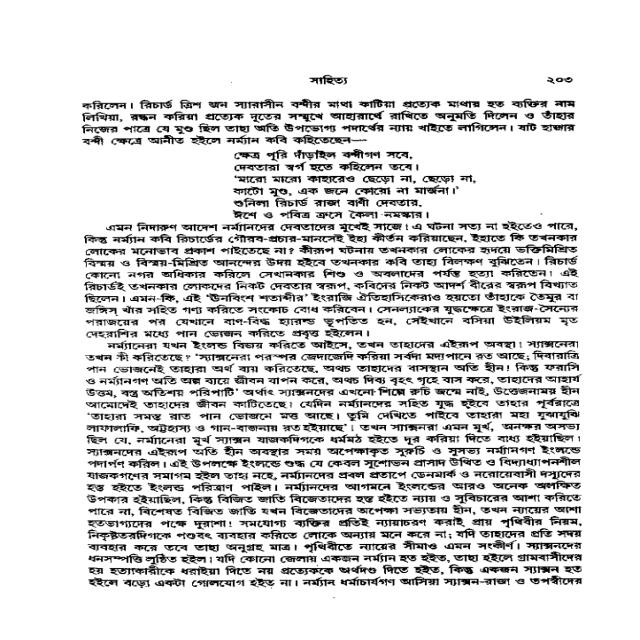page number: (541, 73, 576, 87)
paragraph: (83, 336, 584, 589), (80, 218, 578, 340), (79, 96, 575, 147), (228, 149, 462, 221)
text: (303, 72, 352, 88)
